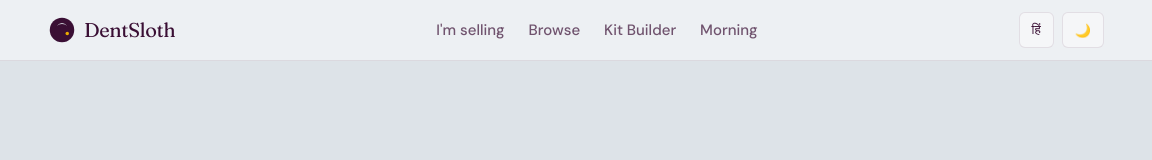
Scenario: Language toggle › toggles to Hindi when lang button clicked
The image size is (1152, 160).
Click the button named "switch to hindi" at (1036, 30), box [1018,12,1054,48]
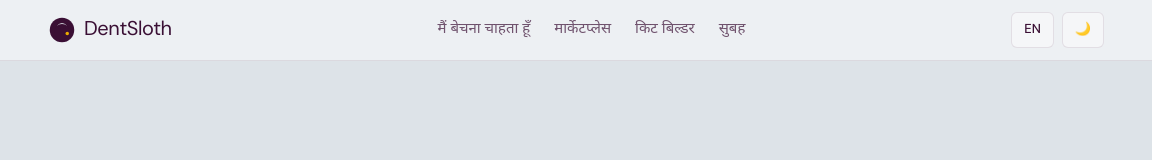
Expected: the link "मार्केटप्लेस" is shown, [554,17,611,43]
